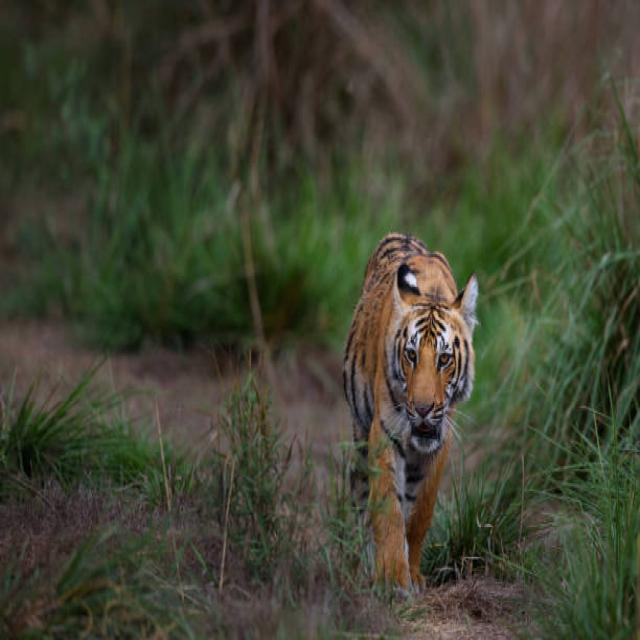not_pig: (341, 229, 479, 598)
